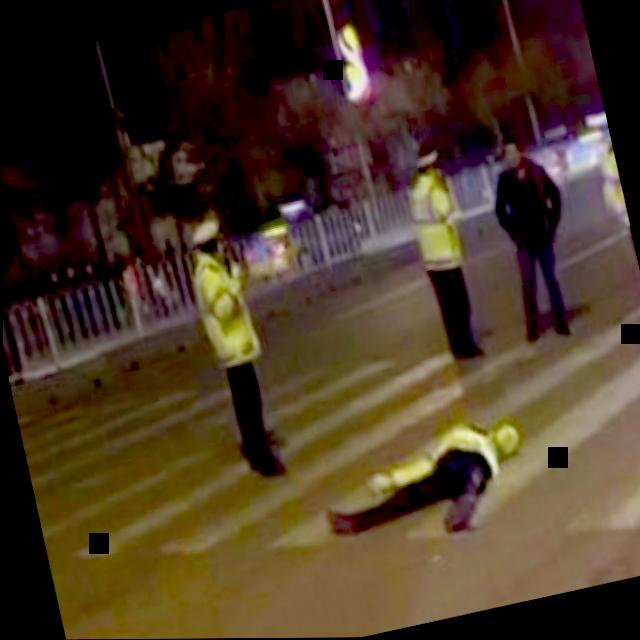Fall-Detected: (298, 377, 555, 572)
